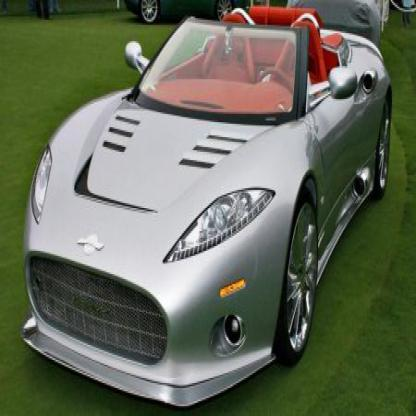Vehicle: (17, 7, 396, 414)
